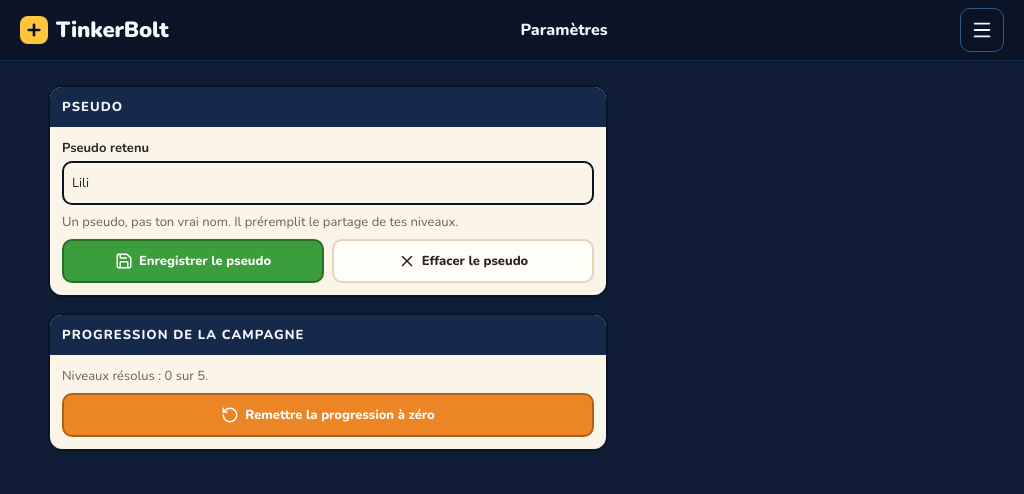
Paramètres — pseudo retenu (U11, ADR 0016 § Pseudo) › modifie le pseudo, rogné, sans perdre les autres préférences
Replace the text in the field labelled "Pseudo retenu" with "  Noé  " at [328, 183], box [62,161,594,205]
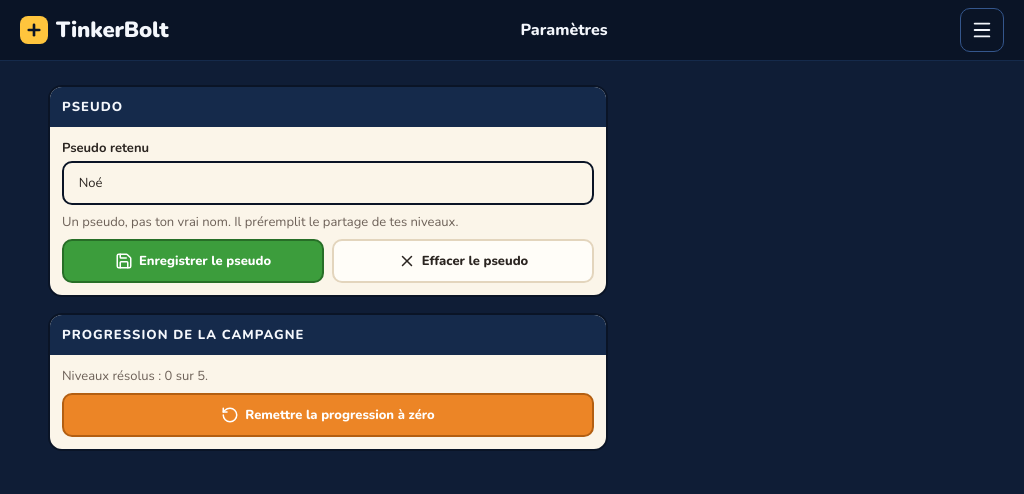
Click the button "Enregistrer le pseudo".
click(193, 261)  # box [62,239,324,283]
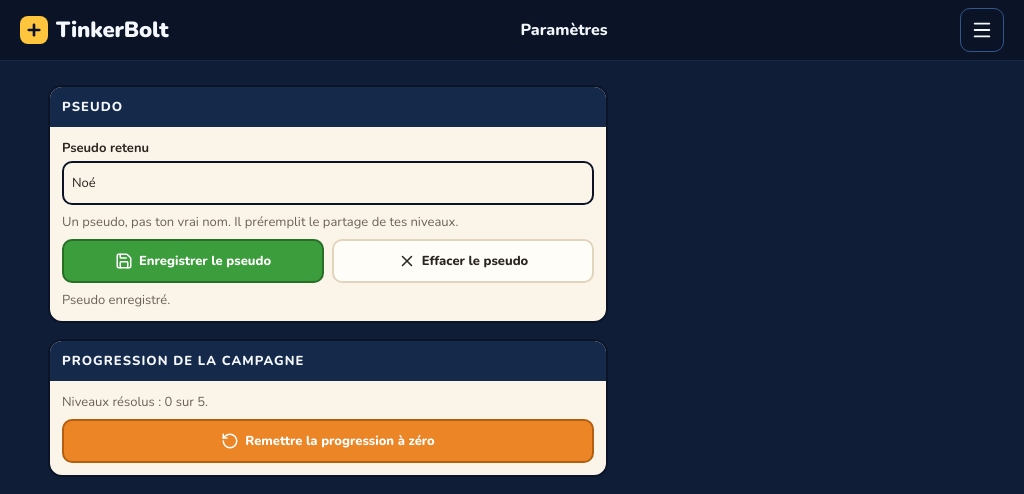
expect the message reads "Pseudo enregistré.": met, box [62,291,170,309]
